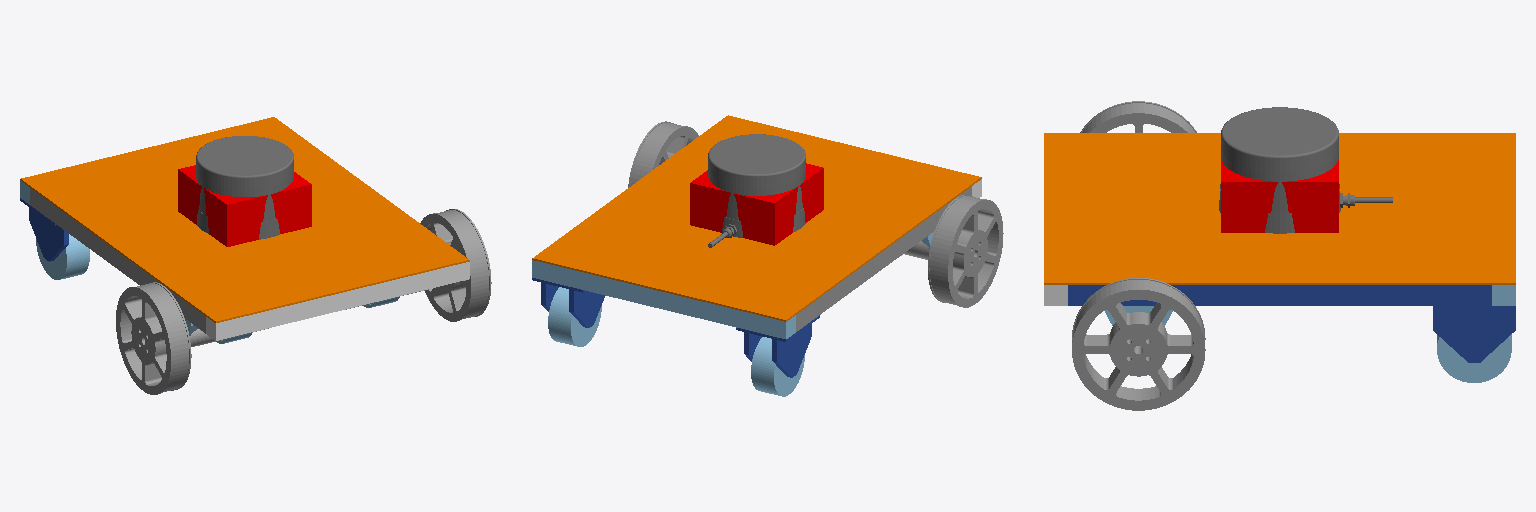
The robot description file, URDF, robot "mini_agv":
<?xml version="1.0" ?>
<!-- Generated using onshape-to-robot -->
<!-- Onshape https://cad.onshape.com/documents/4209ac7f0152411e9d4dcbf0/w/3377871fe4109e8e8f25bc5b/e/d6705610344c69e12c64875a -->
<robot name="mini_agv">
  <!-- Link base_assy -->
  <link name="base_assy_link">
    <inertial>
      <origin xyz="0.111897 0.136763 0.0219121" rpy="0 0 0"/>
      <mass value="2.05848"/>
      <inertia ixx="0.0401005" ixy="-0" ixz="-0" iyy="0.0244416" iyz="-6.33966e-05" izz="0.0643575"/>
    </inertial>
    <!-- Part part_5 -->
    <visual>
      <origin xyz="0.111897 0.153132 0.0100307" rpy="-0 -0 0"/>
      <geometry>
        <mesh filename="package://mini_agv_description/assets/part_5.stl"/>
      </geometry>
      <material name="part_5_material">
        <color rgba="0.768627 0.886275 0.952941 1"/>
      </material>
    </visual>
    <collision>
      <origin xyz="0.111897 0.153132 0.0100307" rpy="-0 -0 0"/>
      <geometry>
        <mesh filename="package://mini_agv_description/assets/part_5.stl"/>
      </geometry>
    </collision>
    <!-- Part part_6 -->
    <visual>
      <origin xyz="0.111897 0.153132 0.0100307" rpy="-0 -0 0"/>
      <geometry>
        <mesh filename="package://mini_agv_description/assets/part_6.stl"/>
      </geometry>
      <material name="part_6_material">
        <color rgba="0.972549 0.529412 0.00392157 1"/>
      </material>
    </visual>
    <collision>
      <origin xyz="0.111897 0.153132 0.0100307" rpy="-0 -0 0"/>
      <geometry>
        <mesh filename="package://mini_agv_description/assets/part_6.stl"/>
      </geometry>
    </collision>
    <!-- Part part_3 -->
    <visual>
      <origin xyz="0.111897 0.153132 0.0100307" rpy="-0 -0 0"/>
      <geometry>
        <mesh filename="package://mini_agv_description/assets/part_3.stl"/>
      </geometry>
      <material name="part_3_material">
        <color rgba="0.231373 0.380392 0.705882 1"/>
      </material>
    </visual>
    <collision>
      <origin xyz="0.111897 0.153132 0.0100307" rpy="-0 -0 0"/>
      <geometry>
        <mesh filename="package://mini_agv_description/assets/part_3.stl"/>
      </geometry>
    </collision>
    <!-- Part part_4 -->
    <visual>
      <origin xyz="0.111897 0.153132 0.0100307" rpy="-0 -0 0"/>
      <geometry>
        <mesh filename="package://mini_agv_description/assets/part_4.stl"/>
      </geometry>
      <material name="part_4_material">
        <color rgba="0.917647 0.917647 0.917647 1"/>
      </material>
    </visual>
    <collision>
      <origin xyz="0.111897 0.153132 0.0100307" rpy="-0 -0 0"/>
      <geometry>
        <mesh filename="package://mini_agv_description/assets/part_4.stl"/>
      </geometry>
    </collision>
    <!-- Part part_2 -->
    <visual>
      <origin xyz="0.111897 0.153132 0.0100307" rpy="-0 -0 0"/>
      <geometry>
        <mesh filename="package://mini_agv_description/assets/part_2.stl"/>
      </geometry>
      <material name="part_2_material">
        <color rgba="0.647059 0.647059 0.647059 1"/>
      </material>
    </visual>
    <collision>
      <origin xyz="0.111897 0.153132 0.0100307" rpy="-0 -0 0"/>
      <geometry>
        <mesh filename="package://mini_agv_description/assets/part_2.stl"/>
      </geometry>
    </collision>
    <!-- Part part_1 -->
    <visual>
      <origin xyz="0.111897 0.153132 0.0100307" rpy="-0 -0 0"/>
      <geometry>
        <mesh filename="package://mini_agv_description/assets/part_1.stl"/>
      </geometry>
      <material name="part_1_material">
        <color rgba="0.615686 0.811765 0.929412 1"/>
      </material>
    </visual>
    <collision>
      <origin xyz="0.111897 0.153132 0.0100307" rpy="-0 -0 0"/>
      <geometry>
        <mesh filename="package://mini_agv_description/assets/part_1.stl"/>
      </geometry>
    </collision>
  </link>
  <!-- Link pg36_assy -->
  <link name="pg36_assy_link">
    <inertial>
      <origin xyz="-1.21e-10 0.0513289 -0.0214366" rpy="0 0 0"/>
      <mass value="0.313209"/>
      <inertia ixx="0.000352725" ixy="-2e-12" ixz="-0" iyy="6.98889e-05" iyz="8.02005e-06" izz="0.000348643"/>
    </inertial>
    <!-- Part pg36_body -->
    <visual>
      <origin xyz="0 -0.007 -0.023" rpy="1.5708 -1.5708 0"/>
      <geometry>
        <mesh filename="package://mini_agv_description/assets/pg36_body.stl"/>
      </geometry>
      <material name="pg36_body_material">
        <color rgba="0.74902 0.74902 0.74902 1"/>
      </material>
    </visual>
    <collision>
      <origin xyz="0 -0.007 -0.023" rpy="1.5708 -1.5708 0"/>
      <geometry>
        <mesh filename="package://mini_agv_description/assets/pg36_body.stl"/>
      </geometry>
    </collision>
    <!-- Part bracket_body -->
    <visual>
      <origin xyz="-0 -0.0072 -0.023" rpy="-1.5708 0 -0"/>
      <geometry>
        <mesh filename="package://mini_agv_description/assets/bracket_body.stl"/>
      </geometry>
      <material name="bracket_body_material">
        <color rgba="0.615686 0.811765 0.929412 1"/>
      </material>
    </visual>
    <collision>
      <origin xyz="-0 -0.0072 -0.023" rpy="-1.5708 0 -0"/>
      <geometry>
        <mesh filename="package://mini_agv_description/assets/bracket_body.stl"/>
      </geometry>
    </collision>
    <!-- Part bracket_shaft -->
    <visual>
      <origin xyz="0 -0.01 -0.023" rpy="-1.5708 -0 -0"/>
      <geometry>
        <mesh filename="package://mini_agv_description/assets/bracket_shaft.stl"/>
      </geometry>
      <material name="bracket_shaft_material">
        <color rgba="0.615686 0.811765 0.929412 1"/>
      </material>
    </visual>
    <collision>
      <origin xyz="0 -0.01 -0.023" rpy="-1.5708 -0 -0"/>
      <geometry>
        <mesh filename="package://mini_agv_description/assets/bracket_shaft.stl"/>
      </geometry>
    </collision>
    <!-- Part pg36_shaft -->
    <visual>
      <origin xyz="0 -0.007 -0.023" rpy="1.5708 -1.5708 0"/>
      <geometry>
        <mesh filename="package://mini_agv_description/assets/pg36_shaft.stl"/>
      </geometry>
      <material name="pg36_shaft_material">
        <color rgba="0.74902 0.74902 0.74902 1"/>
      </material>
    </visual>
    <collision>
      <origin xyz="0 -0.007 -0.023" rpy="1.5708 -1.5708 0"/>
      <geometry>
        <mesh filename="package://mini_agv_description/assets/pg36_shaft.stl"/>
      </geometry>
    </collision>
  </link>
  <!-- Link wheel_hub_assy -->
  <link name="wheel_hub_assy_link">
    <inertial>
      <origin xyz="0 0 0.00843384" rpy="0 0 0"/>
      <mass value="0.177204"/>
      <inertia ixx="0.000154537" ixy="-0" ixz="-0" iyy="0.000154537" iyz="-0" izz="0.000289564"/>
    </inertial>
    <!-- Part wheel -->
    <visual>
      <origin xyz="0 0 0" rpy="1.5708 -0 -0"/>
      <geometry>
        <mesh filename="package://mini_agv_description/assets/wheel.stl"/>
      </geometry>
      <material name="wheel_material">
        <color rgba="0.647059 0.647059 0.647059 1"/>
      </material>
    </visual>
    <collision>
      <origin xyz="0 0 0" rpy="1.5708 -0 -0"/>
      <geometry>
        <mesh filename="package://mini_agv_description/assets/wheel.stl"/>
      </geometry>
    </collision>
    <!-- Part 8mm_flange_hub -->
    <visual>
      <origin xyz="0 0 0" rpy="1.5708 -0 -0"/>
      <geometry>
        <mesh filename="package://mini_agv_description/assets/8mm_flange_hub.stl"/>
      </geometry>
      <material name="8mm_flange_hub_material">
        <color rgba="0.615686 0.811765 0.929412 1"/>
      </material>
    </visual>
    <collision>
      <origin xyz="0 0 0" rpy="1.5708 -0 -0"/>
      <geometry>
        <mesh filename="package://mini_agv_description/assets/8mm_flange_hub.stl"/>
      </geometry>
    </collision>
  </link>
  <!-- Joint from pg36_assy to wheel_hub_assy -->
  <joint name="wheel_1_joint" type="continuous">
    <origin xyz="0 -0.0283 -0.023" rpy="1.5708 1.5708 0"/>
    <parent link="pg36_assy_link"/>
    <child link="wheel_hub_assy_link"/>
    <axis xyz="0 0 1"/>
    <limit effort="10" velocity="10"/>
  </joint>
  <!-- Joint from base_assy to pg36_assy -->
  <joint name="motor_1_joint" type="fixed">
    <origin xyz="0.251897 0.0331323 0.0100307" rpy="-0 0 1.5708"/>
    <parent link="base_assy_link"/>
    <child link="pg36_assy_link"/>
    <axis xyz="0 0 1"/>
    <limit effort="10" velocity="10"/>
  </joint>
  <!-- Link pg36_assy_2 -->
  <link name="pg36_assy_2_link">
    <inertial>
      <origin xyz="-1.21e-10 0.0513289 -0.0214366" rpy="0 0 0"/>
      <mass value="0.313209"/>
      <inertia ixx="0.000352725" ixy="-2e-12" ixz="-0" iyy="6.98889e-05" iyz="8.02005e-06" izz="0.000348643"/>
    </inertial>
    <!-- Part pg36_body_2 -->
    <visual>
      <origin xyz="0 -0.007 -0.023" rpy="1.5708 -1.5708 0"/>
      <geometry>
        <mesh filename="package://mini_agv_description/assets/pg36_body.stl"/>
      </geometry>
      <material name="pg36_body_2_material">
        <color rgba="0.74902 0.74902 0.74902 1"/>
      </material>
    </visual>
    <collision>
      <origin xyz="0 -0.007 -0.023" rpy="1.5708 -1.5708 0"/>
      <geometry>
        <mesh filename="package://mini_agv_description/assets/pg36_body.stl"/>
      </geometry>
    </collision>
    <!-- Part bracket_body_2 -->
    <visual>
      <origin xyz="0 -0.0072 -0.023" rpy="-1.5708 0 0"/>
      <geometry>
        <mesh filename="package://mini_agv_description/assets/bracket_body.stl"/>
      </geometry>
      <material name="bracket_body_2_material">
        <color rgba="0.615686 0.811765 0.929412 1"/>
      </material>
    </visual>
    <collision>
      <origin xyz="0 -0.0072 -0.023" rpy="-1.5708 0 0"/>
      <geometry>
        <mesh filename="package://mini_agv_description/assets/bracket_body.stl"/>
      </geometry>
    </collision>
    <!-- Part bracket_shaft_2 -->
    <visual>
      <origin xyz="0 -0.01 -0.023" rpy="-1.5708 -0 -0"/>
      <geometry>
        <mesh filename="package://mini_agv_description/assets/bracket_shaft.stl"/>
      </geometry>
      <material name="bracket_shaft_2_material">
        <color rgba="0.615686 0.811765 0.929412 1"/>
      </material>
    </visual>
    <collision>
      <origin xyz="0 -0.01 -0.023" rpy="-1.5708 -0 -0"/>
      <geometry>
        <mesh filename="package://mini_agv_description/assets/bracket_shaft.stl"/>
      </geometry>
    </collision>
    <!-- Part pg36_shaft_2 -->
    <visual>
      <origin xyz="0 -0.007 -0.023" rpy="1.5708 -1.5708 0"/>
      <geometry>
        <mesh filename="package://mini_agv_description/assets/pg36_shaft.stl"/>
      </geometry>
      <material name="pg36_shaft_2_material">
        <color rgba="0.74902 0.74902 0.74902 1"/>
      </material>
    </visual>
    <collision>
      <origin xyz="0 -0.007 -0.023" rpy="1.5708 -1.5708 0"/>
      <geometry>
        <mesh filename="package://mini_agv_description/assets/pg36_shaft.stl"/>
      </geometry>
    </collision>
  </link>
  <!-- Link wheel_hub_assy_2 -->
  <link name="wheel_hub_assy_2_link">
    <inertial>
      <origin xyz="0 0 0.00843384" rpy="0 0 0"/>
      <mass value="0.177204"/>
      <inertia ixx="0.000154537" ixy="0" ixz="0" iyy="0.000154537" iyz="-0" izz="0.000289564"/>
    </inertial>
    <!-- Part wheel_2 -->
    <visual>
      <origin xyz="0 0 0" rpy="1.5708 0 0"/>
      <geometry>
        <mesh filename="package://mini_agv_description/assets/wheel.stl"/>
      </geometry>
      <material name="wheel_2_material">
        <color rgba="0.647059 0.647059 0.647059 1"/>
      </material>
    </visual>
    <collision>
      <origin xyz="0 0 0" rpy="1.5708 0 0"/>
      <geometry>
        <mesh filename="package://mini_agv_description/assets/wheel.stl"/>
      </geometry>
    </collision>
    <!-- Part 8mm_flange_hub_2 -->
    <visual>
      <origin xyz="0 -0 0" rpy="1.5708 0 0"/>
      <geometry>
        <mesh filename="package://mini_agv_description/assets/8mm_flange_hub.stl"/>
      </geometry>
      <material name="8mm_flange_hub_2_material">
        <color rgba="0.615686 0.811765 0.929412 1"/>
      </material>
    </visual>
    <collision>
      <origin xyz="0 -0 0" rpy="1.5708 0 0"/>
      <geometry>
        <mesh filename="package://mini_agv_description/assets/8mm_flange_hub.stl"/>
      </geometry>
    </collision>
  </link>
  <!-- Joint from pg36_assy_2 to wheel_hub_assy_2 -->
  <joint name="wheel_2_joint" type="continuous">
    <origin xyz="0 -0.0283 -0.023" rpy="-1.5708 -0 -3.14159"/>
    <parent link="pg36_assy_2_link"/>
    <child link="wheel_hub_assy_2_link"/>
    <axis xyz="0 0 -1"/>
    <limit effort="10" velocity="10"/>
  </joint>
  <!-- Joint from base_assy to pg36_assy_2 -->
  <joint name="motor_2_joint" type="fixed">
    <origin xyz="-0.0281034 0.0331323 0.0100307" rpy="0 -0 -1.5708"/>
    <parent link="base_assy_link"/>
    <child link="pg36_assy_2_link"/>
    <axis xyz="0 0 1"/>
    <limit effort="10" velocity="10"/>
  </joint>
  <!-- Link caster_frame -->
  <link name="caster_frame_link">
    <inertial>
      <origin xyz="0 -0 -0.0201897" rpy="0 0 0"/>
      <mass value="0.0626507"/>
      <inertia ixx="3.42636e-05" ixy="0" ixz="0" iyy="3.81143e-05" iyz="0" izz="3.79824e-05"/>
    </inertial>
    <!-- Part caster_frame -->
    <visual>
      <origin xyz="0 0.0135 -0.04825" rpy="0 -0 0"/>
      <geometry>
        <mesh filename="package://mini_agv_description/assets/caster_frame.stl"/>
      </geometry>
      <material name="caster_frame_material">
        <color rgba="0.231373 0.380392 0.705882 1"/>
      </material>
    </visual>
    <collision>
      <origin xyz="0 0.0135 -0.04825" rpy="0 -0 0"/>
      <geometry>
        <mesh filename="package://mini_agv_description/assets/caster_frame.stl"/>
      </geometry>
    </collision>
  </link>
  <!-- Link caster_wheel -->
  <link name="caster_wheel_link">
    <inertial>
      <origin xyz="-0 -0 -0.0135" rpy="0 0 0"/>
      <mass value="0.122328"/>
      <inertia ixx="3.90245e-05" ixy="0" ixz="0" iyy="3.90245e-05" iyz="0" izz="6.31861e-05"/>
    </inertial>
    <!-- Part caster_wheel -->
    <visual>
      <origin xyz="-0 0 0" rpy="1.5708 -0 0"/>
      <geometry>
        <mesh filename="package://mini_agv_description/assets/caster_wheel.stl"/>
      </geometry>
      <material name="caster_wheel_material">
        <color rgba="0.615686 0.811765 0.929412 1"/>
      </material>
    </visual>
    <collision>
      <origin xyz="-0 0 0" rpy="1.5708 -0 0"/>
      <geometry>
        <mesh filename="package://mini_agv_description/assets/caster_wheel.stl"/>
      </geometry>
    </collision>
  </link>
  <!-- Joint from caster_frame to caster_wheel -->
  <joint name="caster_wheel_1_joint" type="continuous">
    <origin xyz="0 0.0135 -0.04825" rpy="-1.5708 -1.5708 0"/>
    <parent link="caster_frame_link"/>
    <child link="caster_wheel_link"/>
    <axis xyz="0 0 1"/>
    <limit effort="10" velocity="10"/>
  </joint>
  <!-- Joint from base_assy to caster_frame -->
  <joint name="caster_1_joint" type="fixed">
    <origin xyz="0.231897 0.318132 0.0100307" rpy="-0 0 1.5708"/>
    <parent link="base_assy_link"/>
    <child link="caster_frame_link"/>
    <axis xyz="0 0 1"/>
    <limit effort="10" velocity="10"/>
  </joint>
  <!-- Link caster_frame_2 -->
  <link name="caster_frame_2_link">
    <inertial>
      <origin xyz="0 -0 -0.0201897" rpy="0 0 0"/>
      <mass value="0.0626507"/>
      <inertia ixx="3.42636e-05" ixy="0" ixz="0" iyy="3.81143e-05" iyz="0" izz="3.79824e-05"/>
    </inertial>
    <!-- Part caster_frame_2 -->
    <visual>
      <origin xyz="0 0.0135 -0.04825" rpy="0 -0 -0"/>
      <geometry>
        <mesh filename="package://mini_agv_description/assets/caster_frame.stl"/>
      </geometry>
      <material name="caster_frame_2_material">
        <color rgba="0.231373 0.380392 0.705882 1"/>
      </material>
    </visual>
    <collision>
      <origin xyz="0 0.0135 -0.04825" rpy="0 -0 -0"/>
      <geometry>
        <mesh filename="package://mini_agv_description/assets/caster_frame.stl"/>
      </geometry>
    </collision>
  </link>
  <!-- Link caster_wheel_2 -->
  <link name="caster_wheel_2_link">
    <inertial>
      <origin xyz="0 -0 -0.0135" rpy="0 0 0"/>
      <mass value="0.122328"/>
      <inertia ixx="3.90245e-05" ixy="-0" ixz="0" iyy="3.90245e-05" iyz="0" izz="6.31861e-05"/>
    </inertial>
    <!-- Part caster_wheel_2 -->
    <visual>
      <origin xyz="0 0 0" rpy="1.5708 -0 0"/>
      <geometry>
        <mesh filename="package://mini_agv_description/assets/caster_wheel.stl"/>
      </geometry>
      <material name="caster_wheel_2_material">
        <color rgba="0.615686 0.811765 0.929412 1"/>
      </material>
    </visual>
    <collision>
      <origin xyz="0 0 0" rpy="1.5708 -0 0"/>
      <geometry>
        <mesh filename="package://mini_agv_description/assets/caster_wheel.stl"/>
      </geometry>
    </collision>
  </link>
  <!-- Joint from caster_frame_2 to caster_wheel_2 -->
  <joint name="caster_wheel_2_joint" type="continuous">
    <origin xyz="0 -0.0135 -0.04825" rpy="1.5708 1.5708 0"/>
    <parent link="caster_frame_2_link"/>
    <child link="caster_wheel_2_link"/>
    <axis xyz="0 0 1"/>
    <limit effort="10" velocity="10"/>
  </joint>
  <!-- Joint from base_assy to caster_frame_2 -->
  <joint name="caster_2_joint" type="fixed">
    <origin xyz="-0.00810344 0.318132 0.0100307" rpy="-0 0 1.5708"/>
    <parent link="base_assy_link"/>
    <child link="caster_frame_2_link"/>
    <axis xyz="0 0 1"/>
    <limit effort="10" velocity="10"/>
  </joint>
  <!-- Link velodyne_lidar -->
  <link name="velodyne_lidar_link">
    <inertial>
      <origin xyz="0.000186953 -2.55566e-06 -0.0355054" rpy="0 0 0"/>
      <mass value="0.719126"/>
      <inertia ixx="0.000767719" ixy="-3.44e-10" ixz="-3.81693e-06" iyy="0.000777879" iyz="6.0148e-08" izz="0.000926152"/>
    </inertial>
    <!-- Part velodyne_lidar -->
    <visual>
      <origin xyz="0 0 0" rpy="-1.5708 0 -0"/>
      <geometry>
        <mesh filename="package://mini_agv_description/assets/velodyne_lidar.stl"/>
      </geometry>
      <material name="velodyne_lidar_material">
        <color rgba="0.490196 0.490196 0.490196 1"/>
      </material>
    </visual>
    <collision>
      <origin xyz="0 0 0" rpy="-1.5708 0 -0"/>
      <geometry>
        <mesh filename="package://mini_agv_description/assets/velodyne_lidar.stl"/>
      </geometry>
    </collision>
  </link>
  <!-- Joint from base_assy to velodyne_lidar -->
  <joint name="lidar_joint" type="fixed">
    <origin xyz="0.111897 0.153132 0.0320307" rpy="3.14159 0 1.5708"/>
    <parent link="base_assy_link"/>
    <child link="velodyne_lidar_link"/>
    <axis xyz="0 0 1"/>
    <limit effort="10" velocity="10"/>
  </joint>

  <!-- Link imu_link -->
  <link name="imu_link">
    <inertial>
      <origin xyz="0 0 0" rpy="0 0 0"/>
      <mass value="0.1"/>
      <inertia ixx="0.0001666667" ixy="0" ixz="0" iyy="0.0001666667" iyz="0" izz="0.0001666667"/>
    </inertial>
    <visual>
      <origin xyz="0 0 0" rpy="0 0 0"/>
      <geometry>
        <box size="0.1 0.1 0.1"/>
      </geometry>
      <material name="imu_material">
        <color rgba="1 0 0 1"/>
      </material>
    </visual>
    <collision>
      <origin xyz="0 0 0" rpy="0 0 0"/>
      <geometry>
        <box size="0.1 0.1 0.1"/>
      </geometry>
    </collision>
  </link>

  <!-- Joint from base_assy_link to imu_link -->
  <joint name="imu_joint" type="fixed">
    <origin xyz="0.111897 0.153132 0.03" rpy="0 0 0"/>
    <parent link="base_assy_link"/>
    <child link="imu_link"/>
  </joint>

    <link name="base_link">
    <inertial>
      <mass value="0.001"/>
      <origin xyz="0 0 0" rpy="0 0 0"/>
      <inertia ixx="1e-6" ixy="0" ixz="0" iyy="1e-6" iyz="0" izz="1e-6"/>
    </inertial>
  </link>

  <joint name="base_joint" type="fixed">
    <origin xyz="0 0 0" rpy="0 0 1.5708"/>   <!-- 90° rotation about Z -->
    <parent link="base_assy_link"/>
    <child link="base_link"/>
  </joint>

</robot>

--- Facts derived from the render (not from the file) ---
The picture shows the robot from 3 angles, left to right: view 1: azimuth 30°, elevation 25°; view 2: azimuth 150°, elevation 25°; view 3: azimuth 270°, elevation 25°; orthographic projection.
Model mini_agv with 12 links and 11 joints (4 continuous, 7 fixed), rooted at base_assy_link, posed all joints at 0.
Visible links, largest first — view 1: base_assy_link, wheel_hub_assy_2_link, velodyne_lidar_link, imu_link, wheel_hub_assy_link, caster_wheel_2_link, caster_frame_2_link; view 2: base_assy_link, wheel_hub_assy_2_link, velodyne_lidar_link, imu_link, wheel_hub_assy_link, caster_frame_2_link, caster_wheel_2_link, caster_wheel_link, caster_frame_link; view 3: base_assy_link, wheel_hub_assy_link, velodyne_lidar_link, imu_link, caster_frame_link, wheel_hub_assy_2_link, caster_wheel_link.
Boxes of the visible links, <box> form: base_assy_link: <box>20,117,469,340</box>; wheel_hub_assy_2_link: <box>116,282,191,394</box>; velodyne_lidar_link: <box>196,136,293,239</box>; imu_link: <box>178,165,311,246</box>; wheel_hub_assy_link: <box>420,209,491,321</box>; caster_wheel_2_link: <box>36,234,89,279</box>; caster_frame_2_link: <box>20,198,68,261</box>; base_assy_link: <box>532,115,981,338</box>; wheel_hub_assy_2_link: <box>928,195,1003,307</box>; velodyne_lidar_link: <box>708,134,805,247</box>; imu_link: <box>690,163,823,245</box>; wheel_hub_assy_link: <box>628,121,698,187</box>; caster_frame_2_link: <box>736,315,819,377</box>; caster_wheel_2_link: <box>751,337,804,396</box>; caster_wheel_link: <box>548,287,601,346</box>; caster_frame_link: <box>532,278,604,327</box>; base_assy_link: <box>1044,133,1515,305</box>; wheel_hub_assy_link: <box>1072,278,1205,410</box>; velodyne_lidar_link: <box>1219,107,1392,233</box>; imu_link: <box>1221,160,1338,232</box>; caster_frame_link: <box>1433,306,1515,362</box>; wheel_hub_assy_2_link: <box>1080,101,1196,132</box>; caster_wheel_link: <box>1437,334,1511,382</box>.
Bounding box of the posed robot: 0.3786 × 0.4 × 0.1737 m (x, y, z).
23 mesh visuals loaded from 15 distinct referenced files (15 binary STL).
